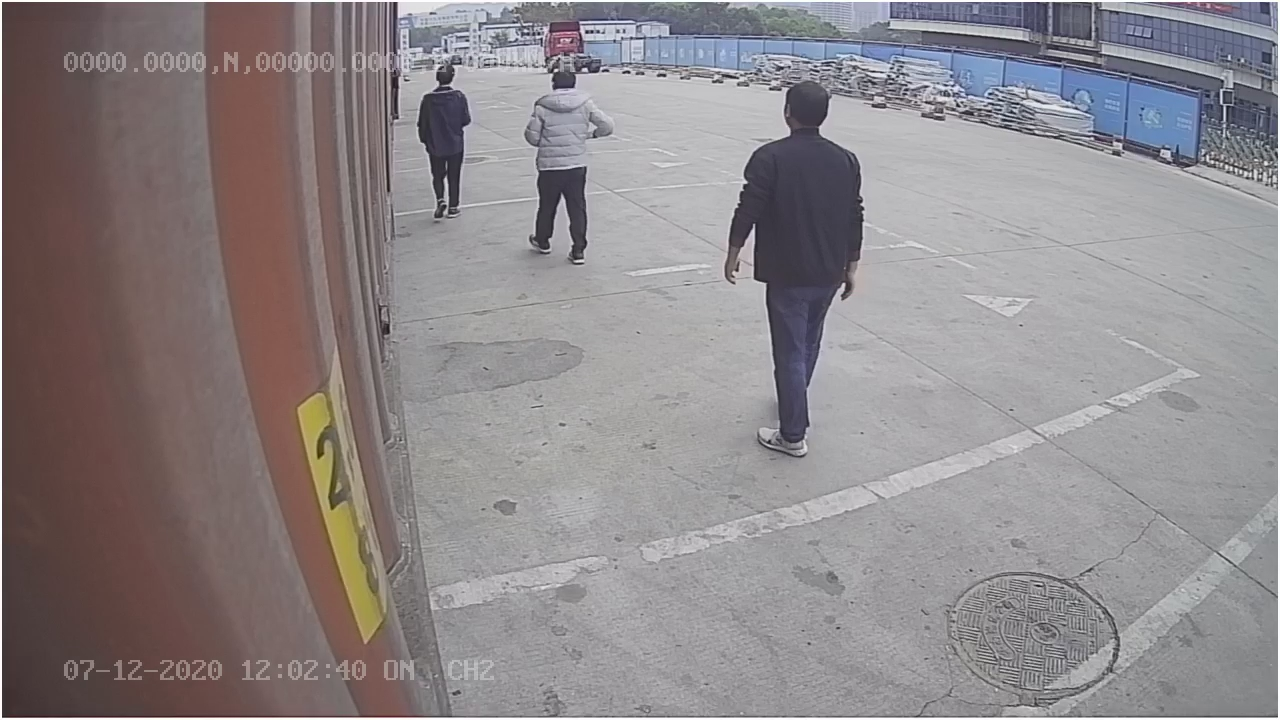person: (719, 73, 865, 458)
